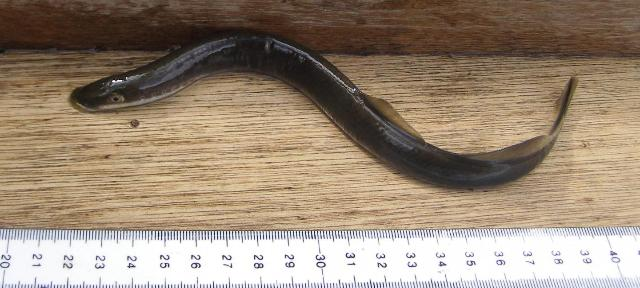Sirip Ekor: (532, 68, 608, 146)
